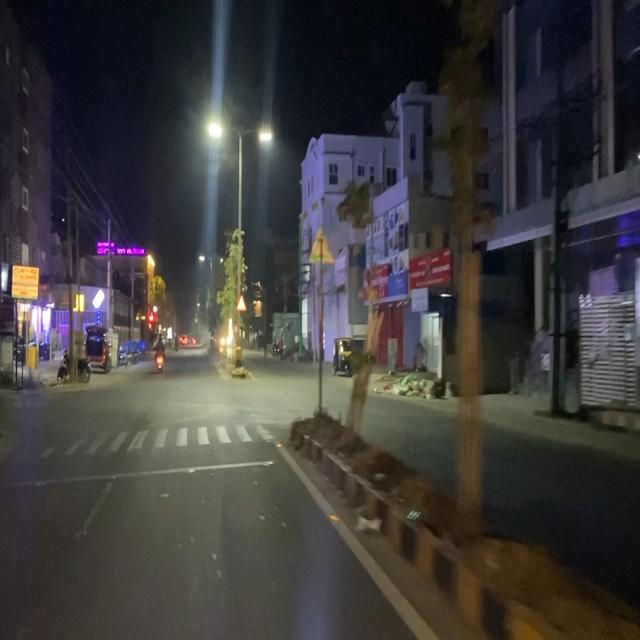bien_cam: (237, 291, 247, 316)
